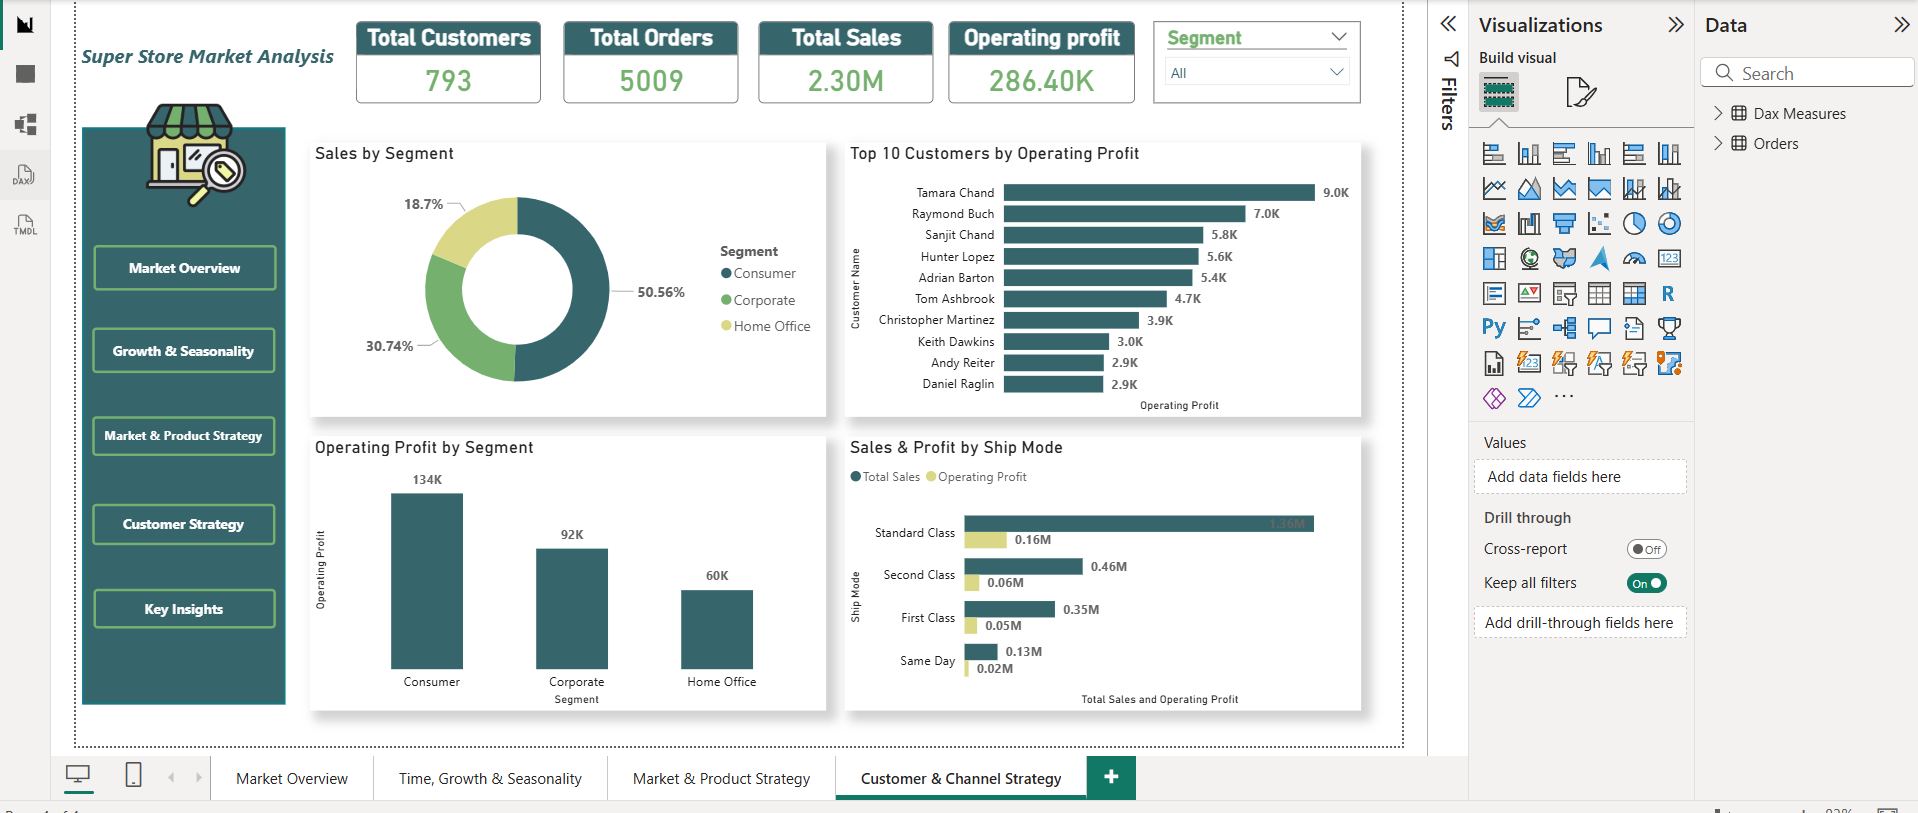

The page's visual inventory and layout, read from the dashboard file:
{"tool":"powerbi","page":{"name":"Customer & Channel Strategy","canvas":[1280,720],"ordinal":3},"visuals":[{"type":"card","title":"Total Customers","fields":{"Values":["Dax Measures.Total Customers"]},"box":[270.3,20.6,178.4,79.6],"z":0},{"type":"card","title":"Total Orders","fields":{"Values":["Dax Measures.Total Orders"]},"box":[470.7,20.6,168.8,79.6],"z":1000},{"type":"card","title":"Total Sales","fields":{"Values":["Dax Measures.Total Sales"]},"box":[658.7,20.6,168.8,79.6],"z":2000},{"type":"card","title":"Operating profit","fields":{"Values":["Dax Measures.Operating Profit"]},"box":[842.5,20.6,179.8,79.6],"z":3000},{"type":"slicer","fields":{"Values":["Orders.Segment"]},"box":[1040.1,20.6,200.3,79.6],"z":5000},{"type":"donutChart","title":"Sales by Segment","fields":{"Y":["Dax Measures.Total Sales"],"Category":["Orders.Segment"]},"box":[225,137.2,498.1,264.8],"z":6000},{"type":"clusteredColumnChart","fields":{"Category":["Orders.Segment"],"Y":["Dax Measures.Operating Profit"]},"box":[225,421.3,498.1,264.8],"z":7000},{"type":"clusteredBarChart","title":"Sales & Profit by Ship Mode","fields":{"Category":["Orders.Ship Mode"],"Y":["Dax Measures.Total Sales","Dax Measures.Operating Profit"]},"box":[742.4,421.3,498.1,264.8],"z":8000},{"type":"clusteredBarChart","title":"Top 10 Customers by Operating Profit ","fields":{"Category":["Orders.Customer Name"],"Y":["Dax Measures.Operating Profit"]},"box":[742.4,137.2,498.1,264.8],"z":9000},{"type":"shape","box":[5.5,123.5,196.2,557.1],"z":10000},{"type":"actionButton","box":[16.5,236,177,43.9],"z":11000},{"type":"image","box":[60.4,85.1,111.1,129],"z":12000},{"type":"actionButton","box":[15.1,315.6,177,43.9],"z":13000},{"type":"actionButton","box":[15.1,402.1,177,38.4],"z":14000},{"type":"actionButton","box":[15.1,485.8,177,39.8],"z":15000},{"type":"textbox","box":[0,35.7,270.3,49.4],"z":16000},{"type":"actionButton","title":"Key In","box":[16.5,568.1,175.6,38.4],"z":16001}]}

Visuals, with their boxes on the page's 1280x720 design canvas (x1, y1, x2, y2). These are canvas units, not pixel positions in the 1918x813 screenshot, which may show the page scaled, cropped or inside an application window:
"Total Customers" card: (270, 21, 449, 100)
"Total Orders" card: (471, 21, 640, 100)
"Total Sales" card: (659, 21, 828, 100)
"Operating profit" card: (842, 21, 1022, 100)
slicer - Orders.Segment: (1040, 21, 1240, 100)
"Sales by Segment" donutChart: (225, 137, 723, 402)
clusteredColumnChart - Orders.Segment x Dax Measures.Operating Profit: (225, 421, 723, 686)
"Sales & Profit by Ship Mode" clusteredBarChart: (742, 421, 1240, 686)
"Top 10 Customers by Operating Profit " clusteredBarChart: (742, 137, 1240, 402)
shape: (6, 124, 202, 681)
actionButton: (16, 236, 194, 280)
image: (60, 85, 172, 214)
actionButton: (15, 316, 192, 360)
actionButton: (15, 402, 192, 440)
actionButton: (15, 486, 192, 526)
textbox: (0, 36, 270, 85)
"Key In" actionButton: (16, 568, 192, 606)
